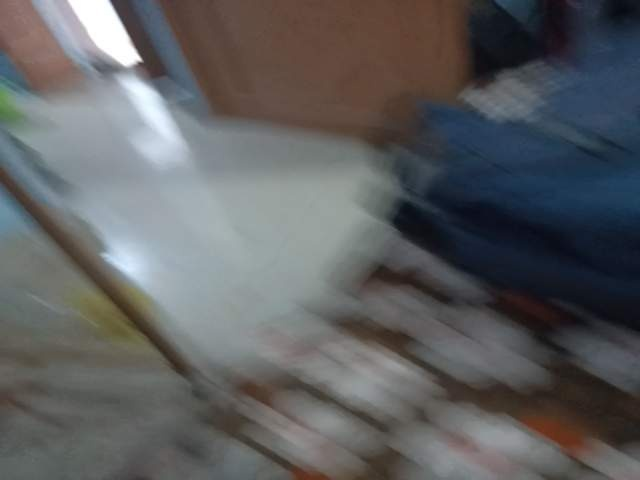pothole: (103, 403, 309, 480)
